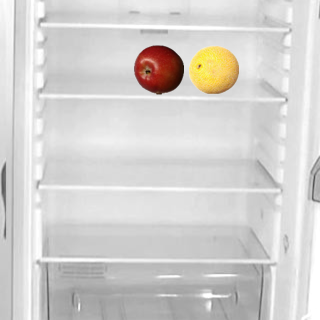Apple Braeburn: (133, 44, 183, 94)
Cantaloupe 1: (188, 44, 238, 94)
